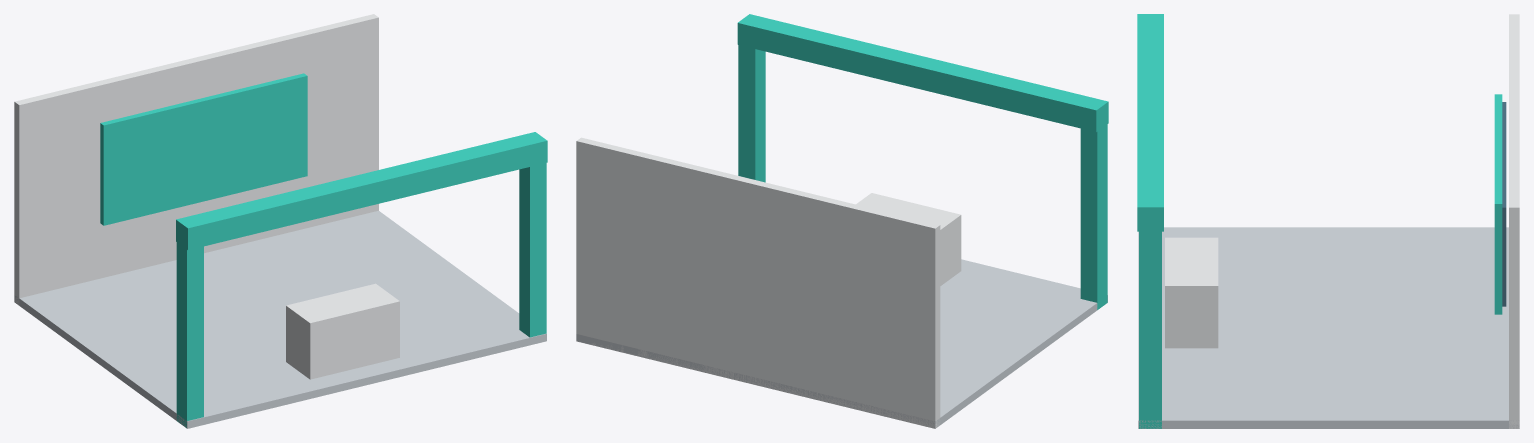
3 views of the same model, side by side, from view 1: azimuth 30°, elevation 25°; view 2: azimuth 150°, elevation 25°; view 3: azimuth 270°, elevation 25° (orthographic). The views are drawn at different scales.
Visible parts, largest first — view 1: Exhibition Booth Concept; view 2: Exhibition Booth Concept; view 3: Exhibition Booth Concept.
Boxes of the visible parts, x1,y1,x2,y2 form: Exhibition Booth Concept: (14, 14, 547, 428); Exhibition Booth Concept: (576, 14, 1108, 428); Exhibition Booth Concept: (1137, 14, 1519, 428).
Bounding box in the file's own units: 6 × 3.2 × 5.02.
